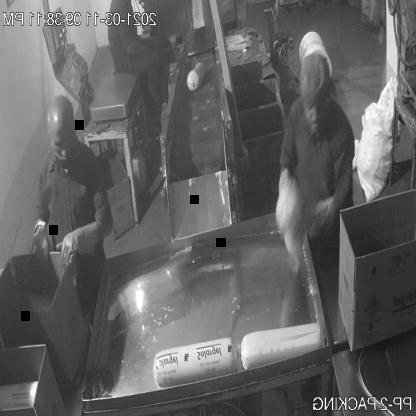glove: (57, 214, 100, 273), (34, 214, 54, 280)
